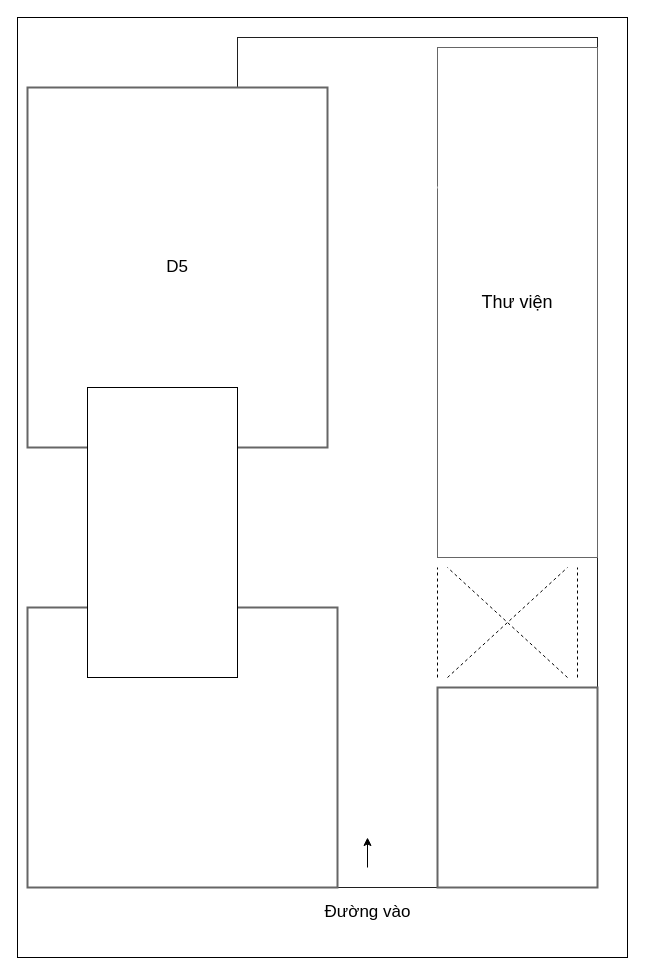
This 645x975 diagram has some shape labels left out. The box of each missing label's shape, as (x1, y1, x2, y2) in pixels:
Bãi đỗ xe máy: (86, 386, 238, 678)
D3: (26, 606, 338, 888)
